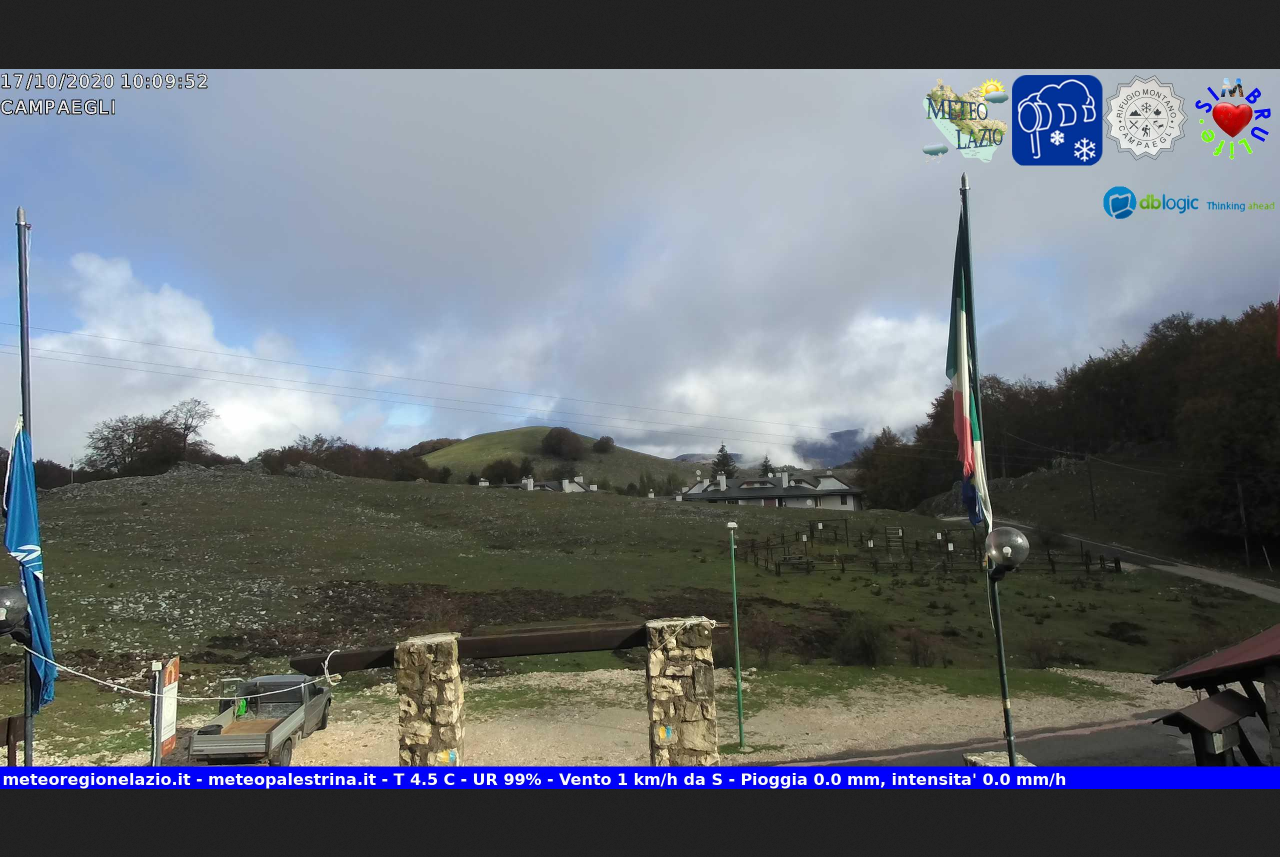no: (2, 417, 60, 709), (944, 203, 995, 527)
